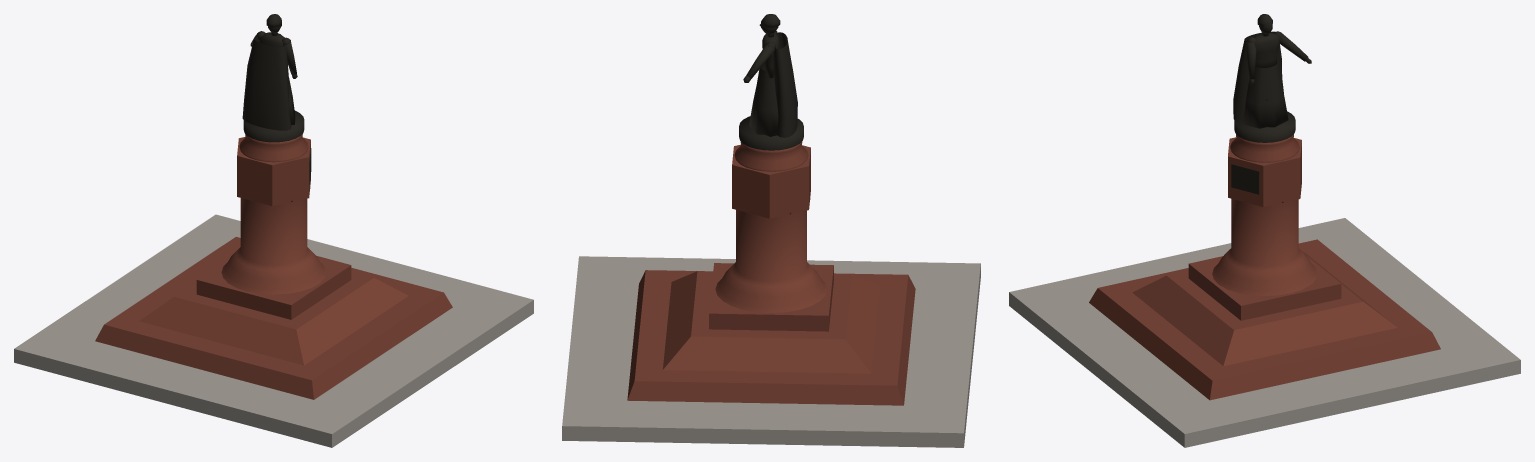
Rendered from ekaterina2.lod.glb.
3 views of the same model, side by side, from view 1: azimuth 30°, elevation 25°; view 2: azimuth 150°, elevation 25°; view 3: azimuth 270°, elevation 25° (orthographic). The views are drawn at different scales.
Visible parts, largest first — view 1: ekaterina2_wall2, ekaterina2_stone, ekaterina2_wall3; view 2: ekaterina2_wall2, ekaterina2_stone, ekaterina2_wall3; view 3: ekaterina2_wall2, ekaterina2_stone, ekaterina2_wall3.
Part boxes in pixels (x1,y1,x2,y2): ekaterina2_wall2: (95, 134, 452, 399); ekaterina2_stone: (14, 214, 533, 447); ekaterina2_wall3: (242, 14, 311, 184); ekaterina2_wall2: (627, 141, 915, 405); ekaterina2_stone: (562, 256, 980, 447); ekaterina2_wall3: (739, 14, 803, 150); ekaterina2_wall2: (1089, 134, 1440, 400); ekaterina2_stone: (1009, 218, 1520, 447); ekaterina2_wall3: (1231, 14, 1311, 194).
Bounding box in the file's own units: 14.03 × 9.85 × 14.03.
